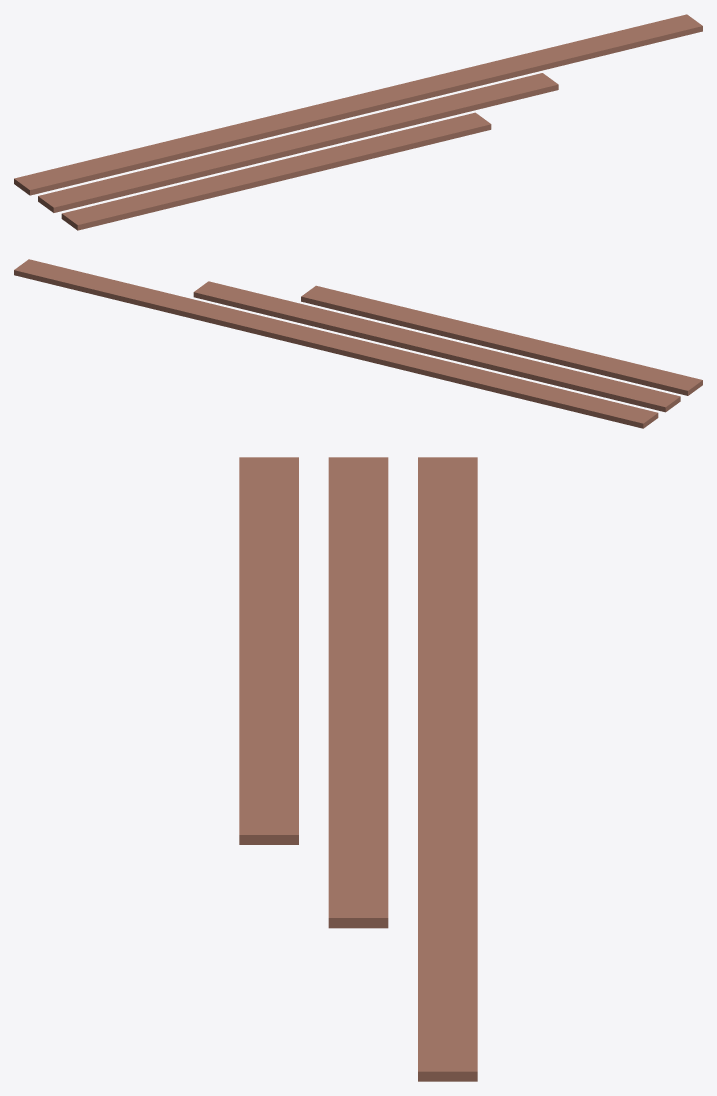
The model's file is deck-board-200x38_ipe_v0.1.glb.
3 views of the same model, one above another, from view 1: azimuth 30°, elevation 25°; view 2: azimuth 150°, elevation 25°; view 3: azimuth 270°, elevation 25° (orthographic). The views are drawn at different scales.
Visible parts, largest first — view 1: deck-board-200x38_deck-board-200x38_ipe_4880mm, deck-board-200x38_deck-board-200x38_ipe_3660mm, deck-board-200x38_deck-board-200x38_ipe_3000mm; view 2: deck-board-200x38_deck-board-200x38_ipe_4880mm, deck-board-200x38_deck-board-200x38_ipe_3660mm, deck-board-200x38_deck-board-200x38_ipe_3000mm; view 3: deck-board-200x38_deck-board-200x38_ipe_4880mm, deck-board-200x38_deck-board-200x38_ipe_3660mm, deck-board-200x38_deck-board-200x38_ipe_3000mm.
Part boxes in pixels (x1,y1,x2,y2): deck-board-200x38_deck-board-200x38_ipe_4880mm: (14, 14, 702, 195); deck-board-200x38_deck-board-200x38_ipe_3660mm: (38, 73, 558, 212); deck-board-200x38_deck-board-200x38_ipe_3000mm: (61, 112, 491, 230); deck-board-200x38_deck-board-200x38_ipe_4880mm: (14, 259, 658, 428); deck-board-200x38_deck-board-200x38_ipe_3660mm: (193, 281, 680, 412); deck-board-200x38_deck-board-200x38_ipe_3000mm: (301, 285, 702, 395); deck-board-200x38_deck-board-200x38_ipe_4880mm: (418, 457, 477, 1081); deck-board-200x38_deck-board-200x38_ipe_3660mm: (328, 457, 388, 928); deck-board-200x38_deck-board-200x38_ipe_3000mm: (239, 457, 298, 844).
Size of the model in its own units: 4.88 by 0.038 by 0.8.
